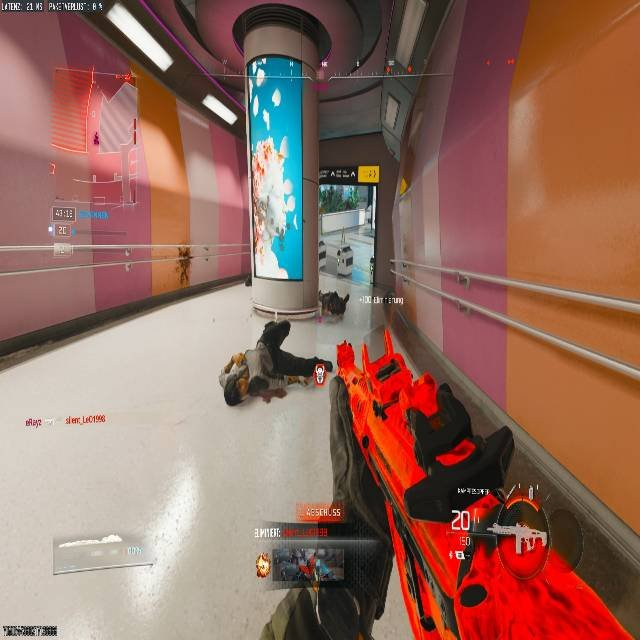head: (219, 351, 253, 407)
